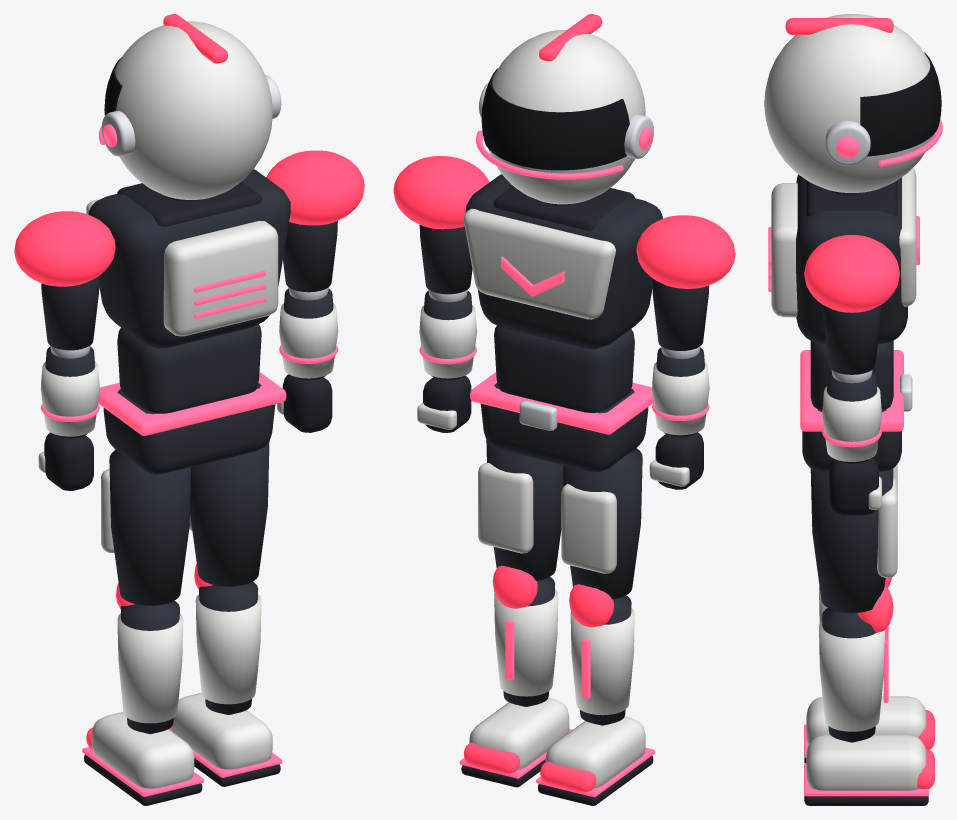
File: athlete.glb
The picture shows the model from 3 angles, left to right: view 1: azimuth 30°, elevation 25°; view 2: azimuth 150°, elevation 25°; view 3: azimuth 270°, elevation 25°; orthographic projection. The views are drawn at different scales.
Parts seen in each view (by area): view 1: Helmet, Torso, Thigh0, Pack, Waist, Thigh1, Pelvis, Pad0, ShinGuard0, ShinGuard1, Pad1, Boot0 (+20 smaller); view 2: Helmet, ChestPlate, Torso, Waist, Visor, Pelvis, Pad0, Thigh0, Pad1, ShinGuard1, ShinGuard0, Thigh1 (+30 smaller); view 3: Helmet, Thigh1, Torso, Boot1, Pad1, ShinGuard1, Visor, Pack, UpperArm1, Gauntlet1, Boot0, Glove1 (+21 smaller).
Part boxes in pixels (x1,y1,x2,y2): Helmet: [115, 21, 272, 199]; Torso: [88, 169, 290, 348]; Thigh0: [109, 450, 190, 605]; Pack: [163, 221, 278, 336]; Waist: [117, 324, 261, 413]; Thigh1: [190, 441, 269, 586]; Pelvis: [103, 383, 275, 474]; Pad0: [14, 211, 115, 286]; ShinGuard0: [117, 613, 183, 723]; ShinGuard1: [195, 594, 261, 704]; Pad1: [266, 150, 364, 225]; Boot0: [92, 712, 194, 788]; Helmet: [488, 30, 645, 204]; ChestPlate: [463, 208, 615, 319]; Torso: [465, 174, 662, 349]; Waist: [494, 325, 634, 412]; Visor: [481, 68, 629, 170]; Pelvis: [480, 383, 648, 472]; Pad0: [636, 215, 735, 288]; Thigh0: [563, 448, 642, 599]; Pad1: [393, 156, 489, 229]; ShinGuard1: [494, 589, 558, 696]; ShinGuard0: [570, 608, 634, 715]; Thigh1: [486, 440, 563, 580]; Helmet: [764, 14, 934, 192]; Thigh1: [810, 468, 893, 612]; Torso: [796, 174, 907, 344]; Boot1: [806, 735, 926, 790]; Pad1: [804, 235, 899, 312]; ShinGuard1: [819, 621, 885, 731]; Visor: [860, 52, 941, 156]; Pack: [771, 183, 797, 317]; UpperArm1: [822, 305, 881, 374]; Gauntlet1: [822, 386, 881, 461]; Boot0: [806, 696, 926, 745]; Glove1: [829, 458, 878, 515].
Size of the model in its own units: 0.953 by 2.01 by 0.4308.
